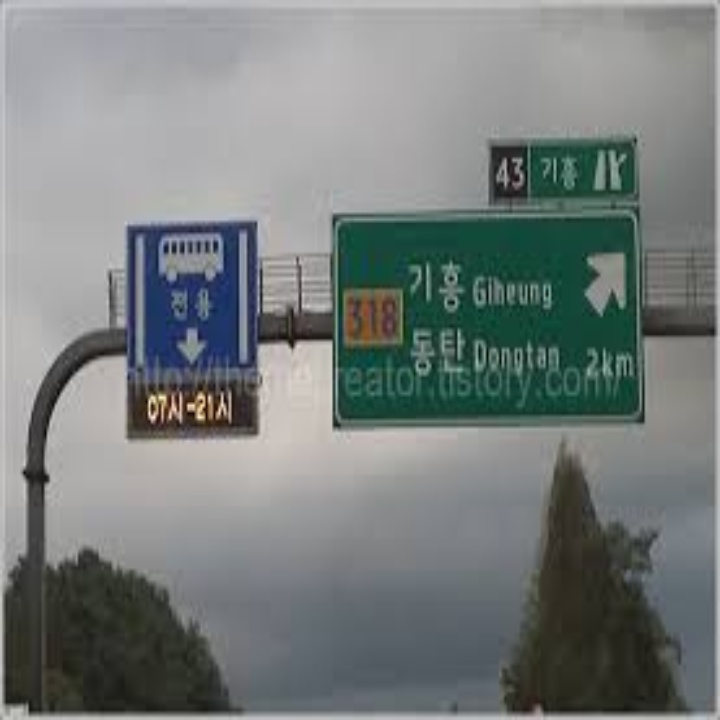bus: (145, 229, 231, 286)
